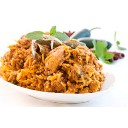briyani: (4, 35, 105, 90)
